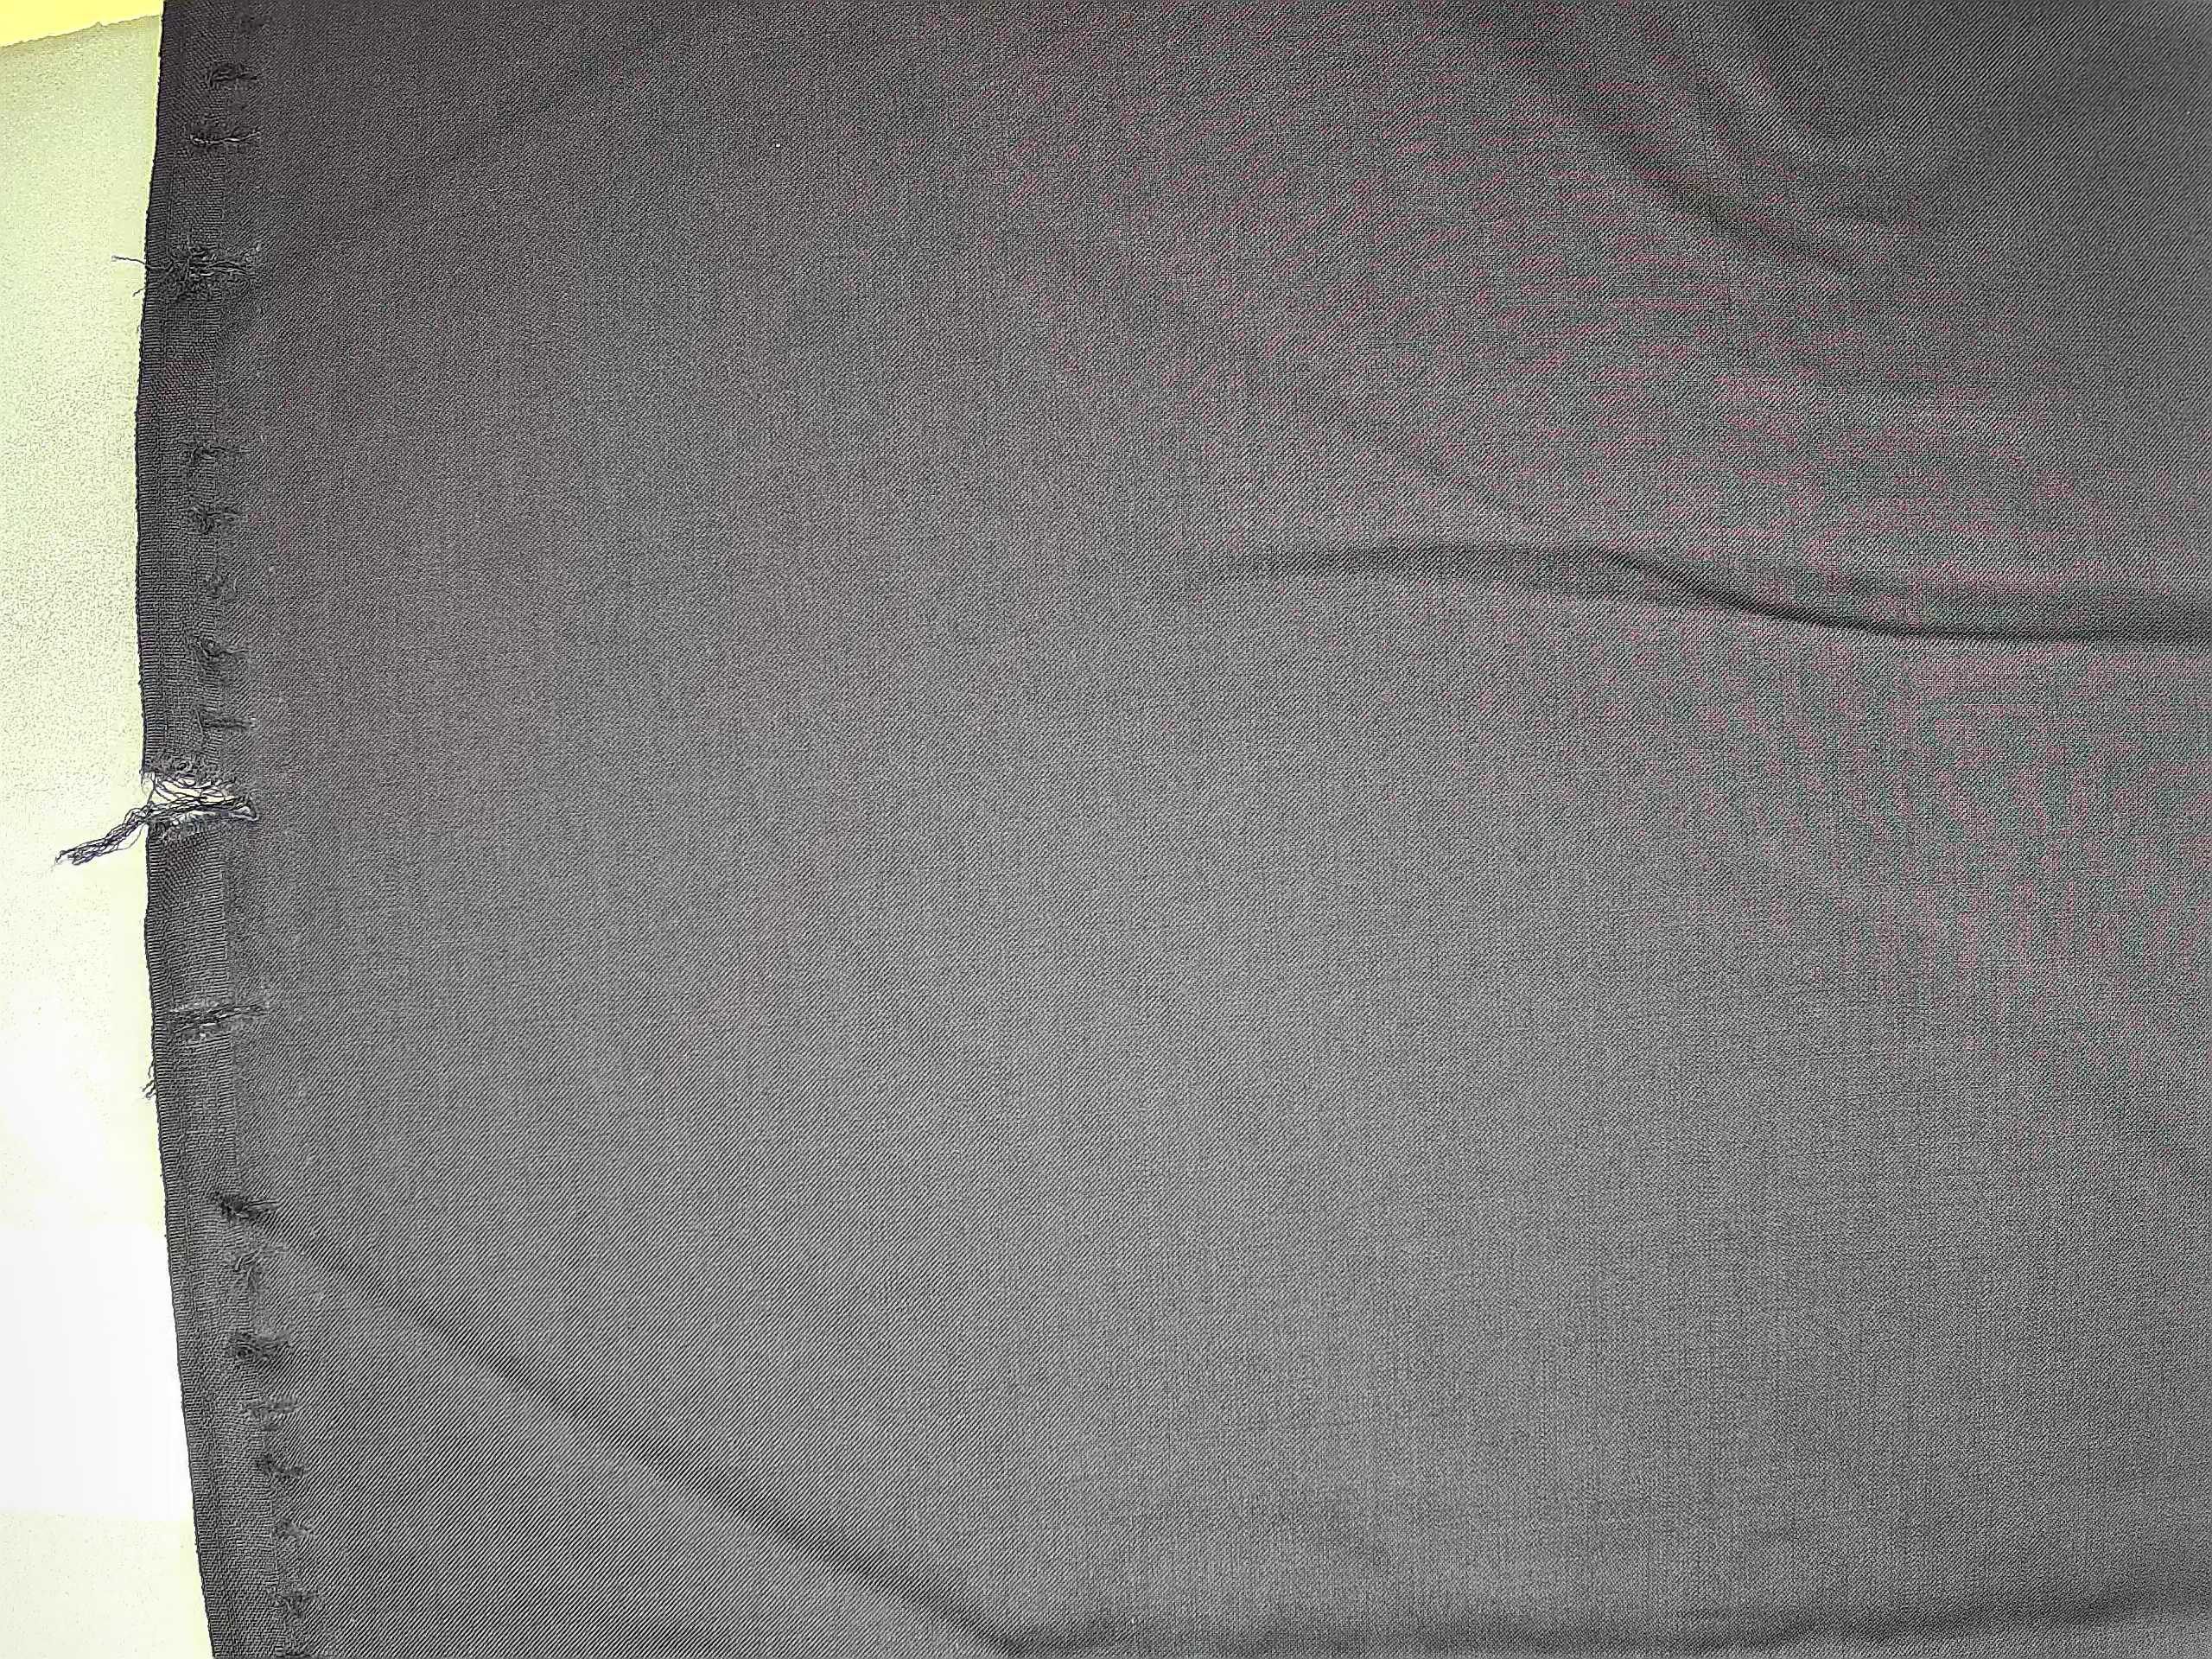puncture-hole: (178, 35, 320, 1635)
